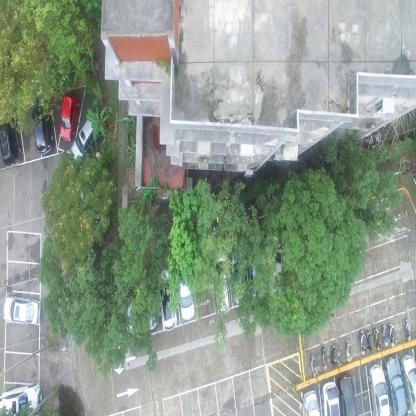car: (0, 381, 43, 415), (70, 112, 98, 164), (384, 356, 408, 415), (0, 104, 21, 170), (156, 270, 178, 332), (31, 96, 53, 156), (212, 244, 230, 314), (2, 296, 42, 326), (368, 362, 390, 416), (177, 260, 195, 322), (142, 279, 160, 335), (400, 353, 416, 415), (58, 91, 78, 140), (230, 247, 247, 304), (249, 243, 266, 299), (125, 283, 141, 340), (268, 240, 283, 300), (338, 372, 356, 416), (322, 380, 340, 415), (303, 388, 320, 415)
